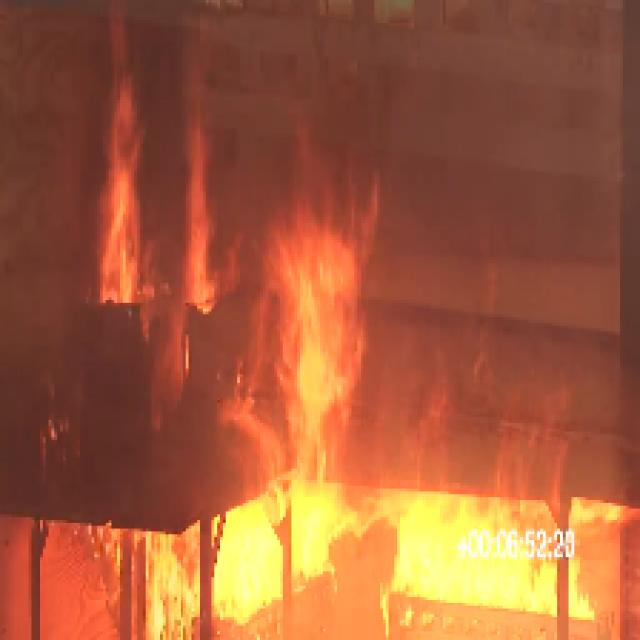fire: (184, 488, 499, 608), (264, 213, 355, 462), (101, 84, 149, 288)
